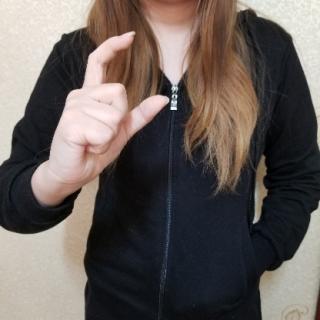NOON: (47, 25, 171, 188)
